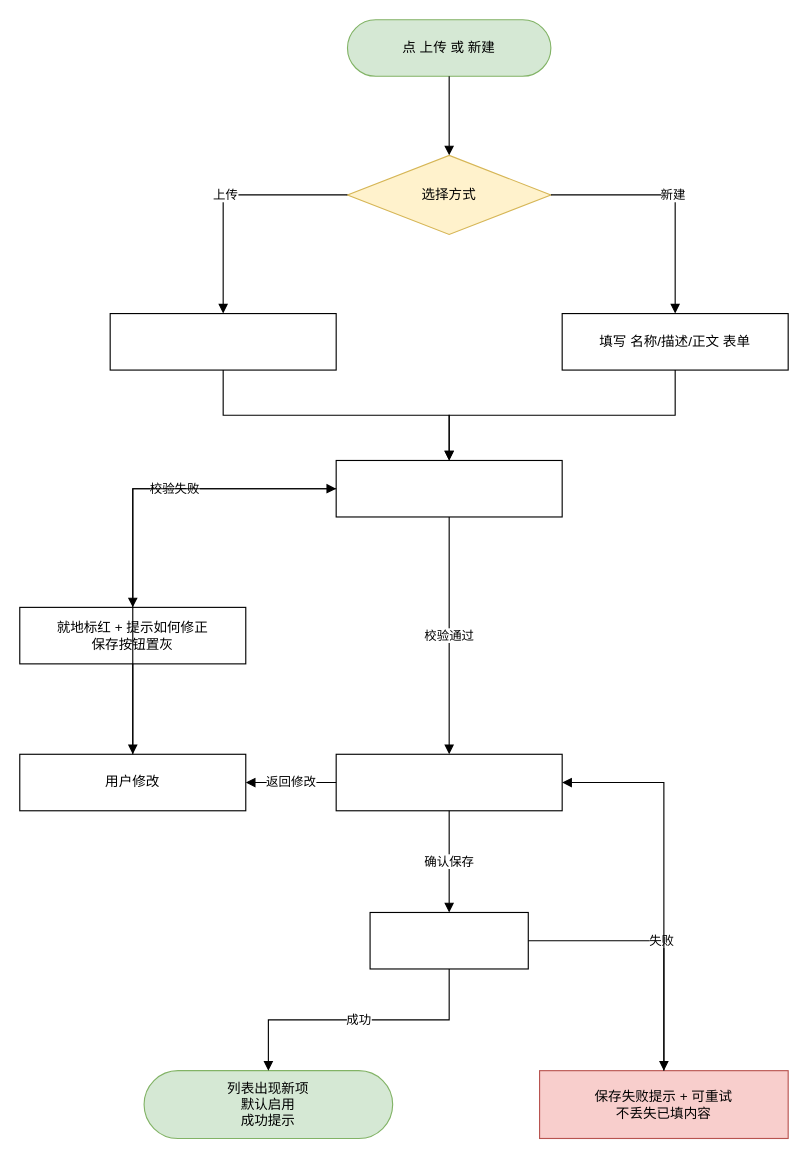
Image size: 808x1158. Some labels were removed from this diagram. The centre of each missing label's shape, as x and y in pixels:
保存: (448,940)
即时校验: (448,488)
选文件 / 拖拽到热区: (222,341)
预览确认 Preview/Source 双视图: (448,782)
